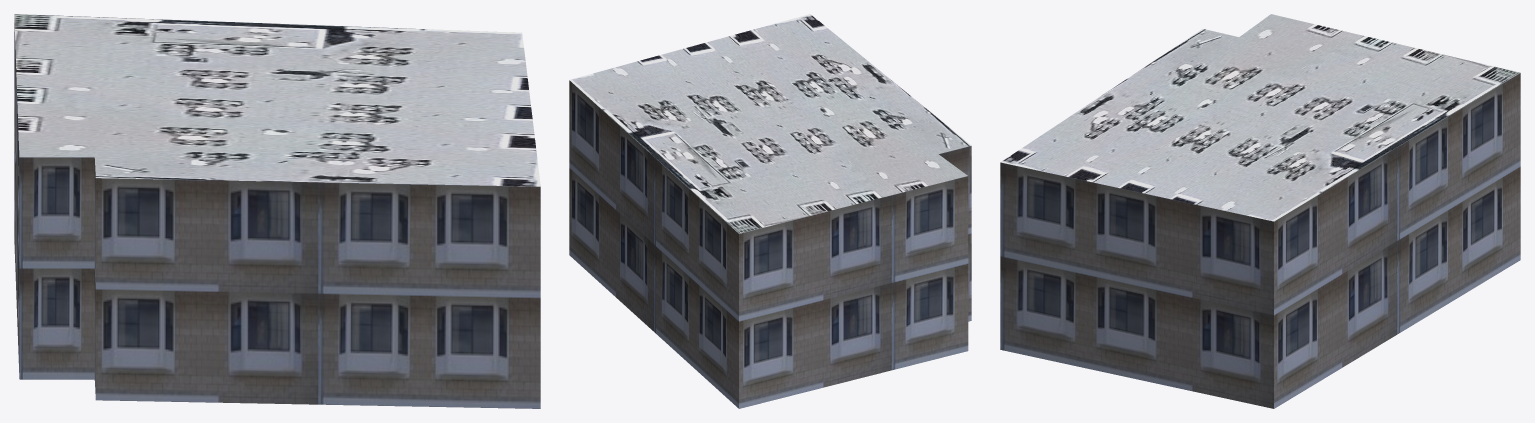
Rendered from ResTex__360.fbx.
3 renders of one model, left to right at view 1: azimuth 30°, elevation 25°; view 2: azimuth 150°, elevation 25°; view 3: azimuth 270°, elevation 25°, orthographic. The views are drawn at different scales.
Visible parts, largest first — view 1: CityEngineMaterial_3_m, CityEngineMaterial_4_m; view 2: CityEngineMaterial_3_m, CityEngineMaterial_4_m; view 3: CityEngineMaterial_3_m, CityEngineMaterial_4_m.
Part boxes in pixels (x1,y1,x2,y2): CityEngineMaterial_3_m: (14, 22, 540, 408); CityEngineMaterial_4_m: (14, 14, 540, 186); CityEngineMaterial_3_m: (569, 80, 971, 408); CityEngineMaterial_4_m: (569, 14, 971, 233); CityEngineMaterial_3_m: (1000, 73, 1520, 408); CityEngineMaterial_4_m: (1000, 14, 1519, 221).
Bounding box in the file's own units: 14.25 × 6 × 15.1.
2 materials, 2 textured.
